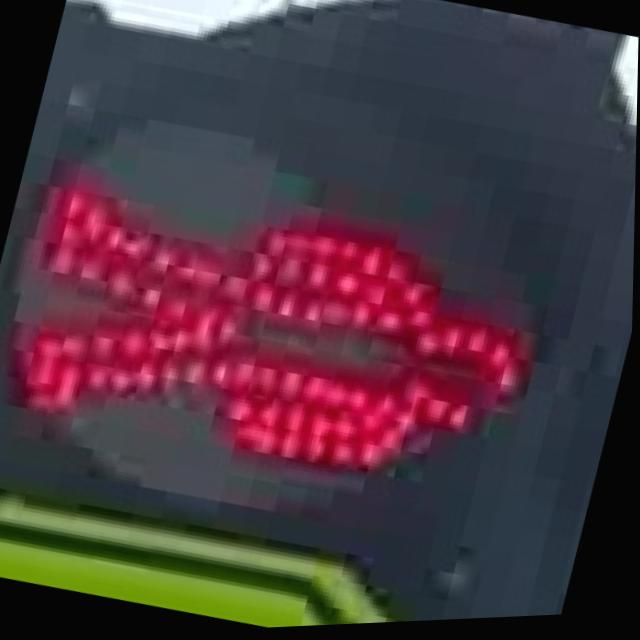red_light: (0, 112, 603, 550)
